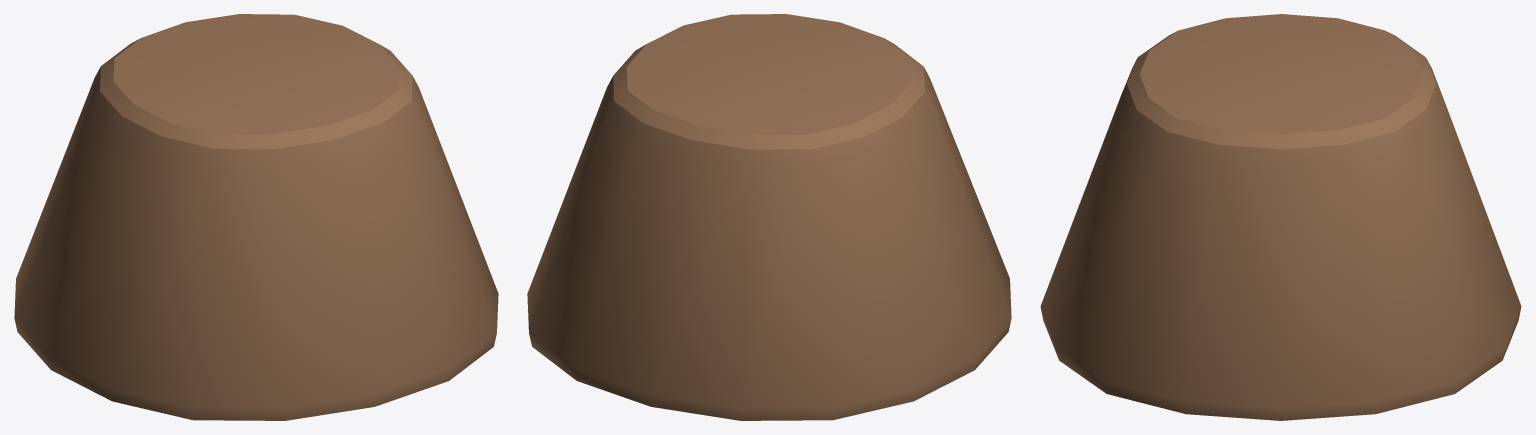
Rendered from rockplatforms_medium.glb.
The picture shows the model from 3 angles, left to right: view 1: azimuth 30°, elevation 25°; view 2: azimuth 150°, elevation 25°; view 3: azimuth 270°, elevation 25°; orthographic projection.
Visible parts, largest first — view 1: RockPlatforms_Medium; view 2: RockPlatforms_Medium; view 3: RockPlatforms_Medium.
Boxes of the visible parts, x1,y1,x2,y2 form: RockPlatforms_Medium: [14, 14, 498, 420]; RockPlatforms_Medium: [527, 14, 1011, 420]; RockPlatforms_Medium: [1040, 14, 1521, 420].
Bounding box in the file's own units: 4.81 × 2.91 × 4.81.
